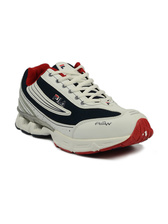shoes: (15, 61, 158, 156)
